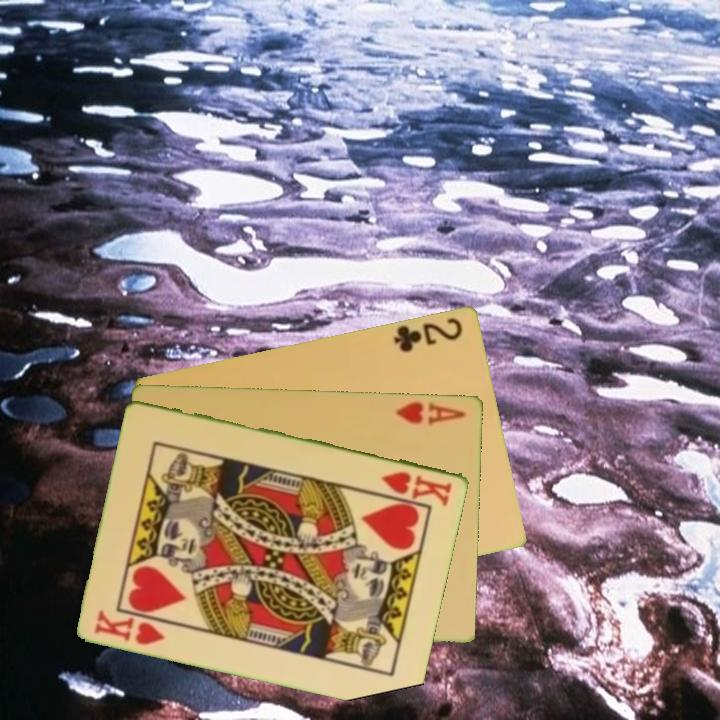2c: (390, 313, 466, 355)
Ah: (392, 398, 469, 428)
Kh: (91, 606, 169, 648), (378, 467, 455, 508)
